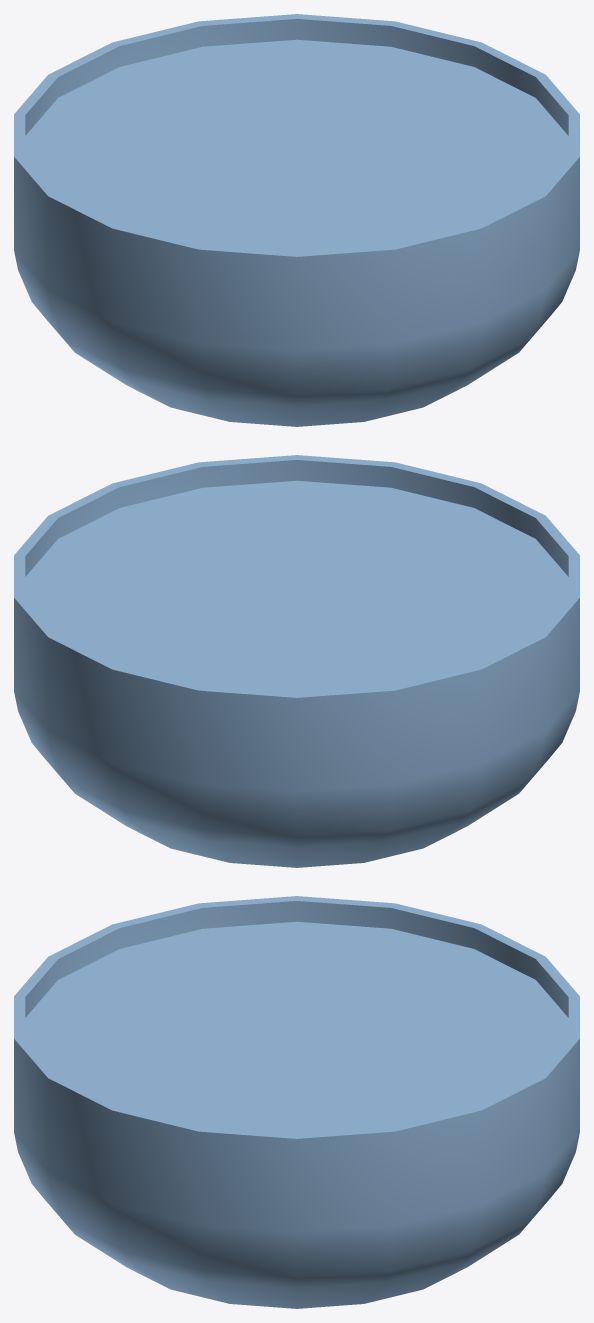
Rendered from PSKcookinPotAssy.FBX.
The picture shows the model from 3 angles, top to bottom: view 1: azimuth 30°, elevation 25°; view 2: azimuth 150°, elevation 25°; view 3: azimuth 270°, elevation 25°; orthographic projection.
Parts seen in each view (by area): view 1: PSKsoupPot, PSKsoupLayer; view 2: PSKsoupPot, PSKsoupLayer; view 3: PSKsoupPot, PSKsoupLayer.
Part boxes in pixels (bbox=[...]): PSKsoupPot: bbox=[14, 14, 579, 426]; PSKsoupLayer: bbox=[25, 39, 568, 251]; PSKsoupPot: bbox=[14, 455, 579, 867]; PSKsoupLayer: bbox=[25, 480, 568, 692]; PSKsoupPot: bbox=[14, 896, 579, 1308]; PSKsoupLayer: bbox=[25, 921, 568, 1133].
Bounding box in the file's own units: 2.5 × 1 × 2.46.
